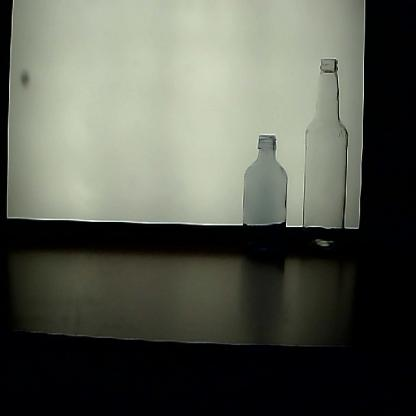Can: (299, 57, 352, 260), (238, 133, 291, 265)
